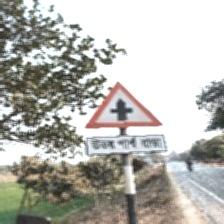Crossroad: (84, 81, 166, 157)
